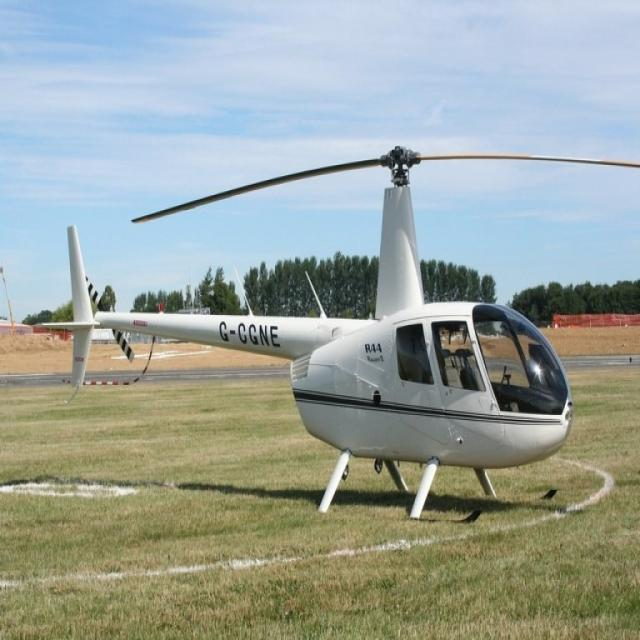CIV_HELO: (41, 137, 577, 535)
